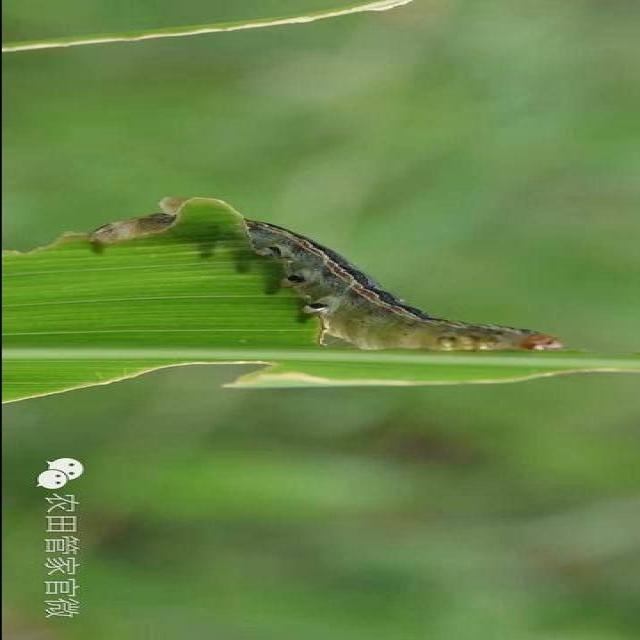army worm: (57, 211, 564, 356)
